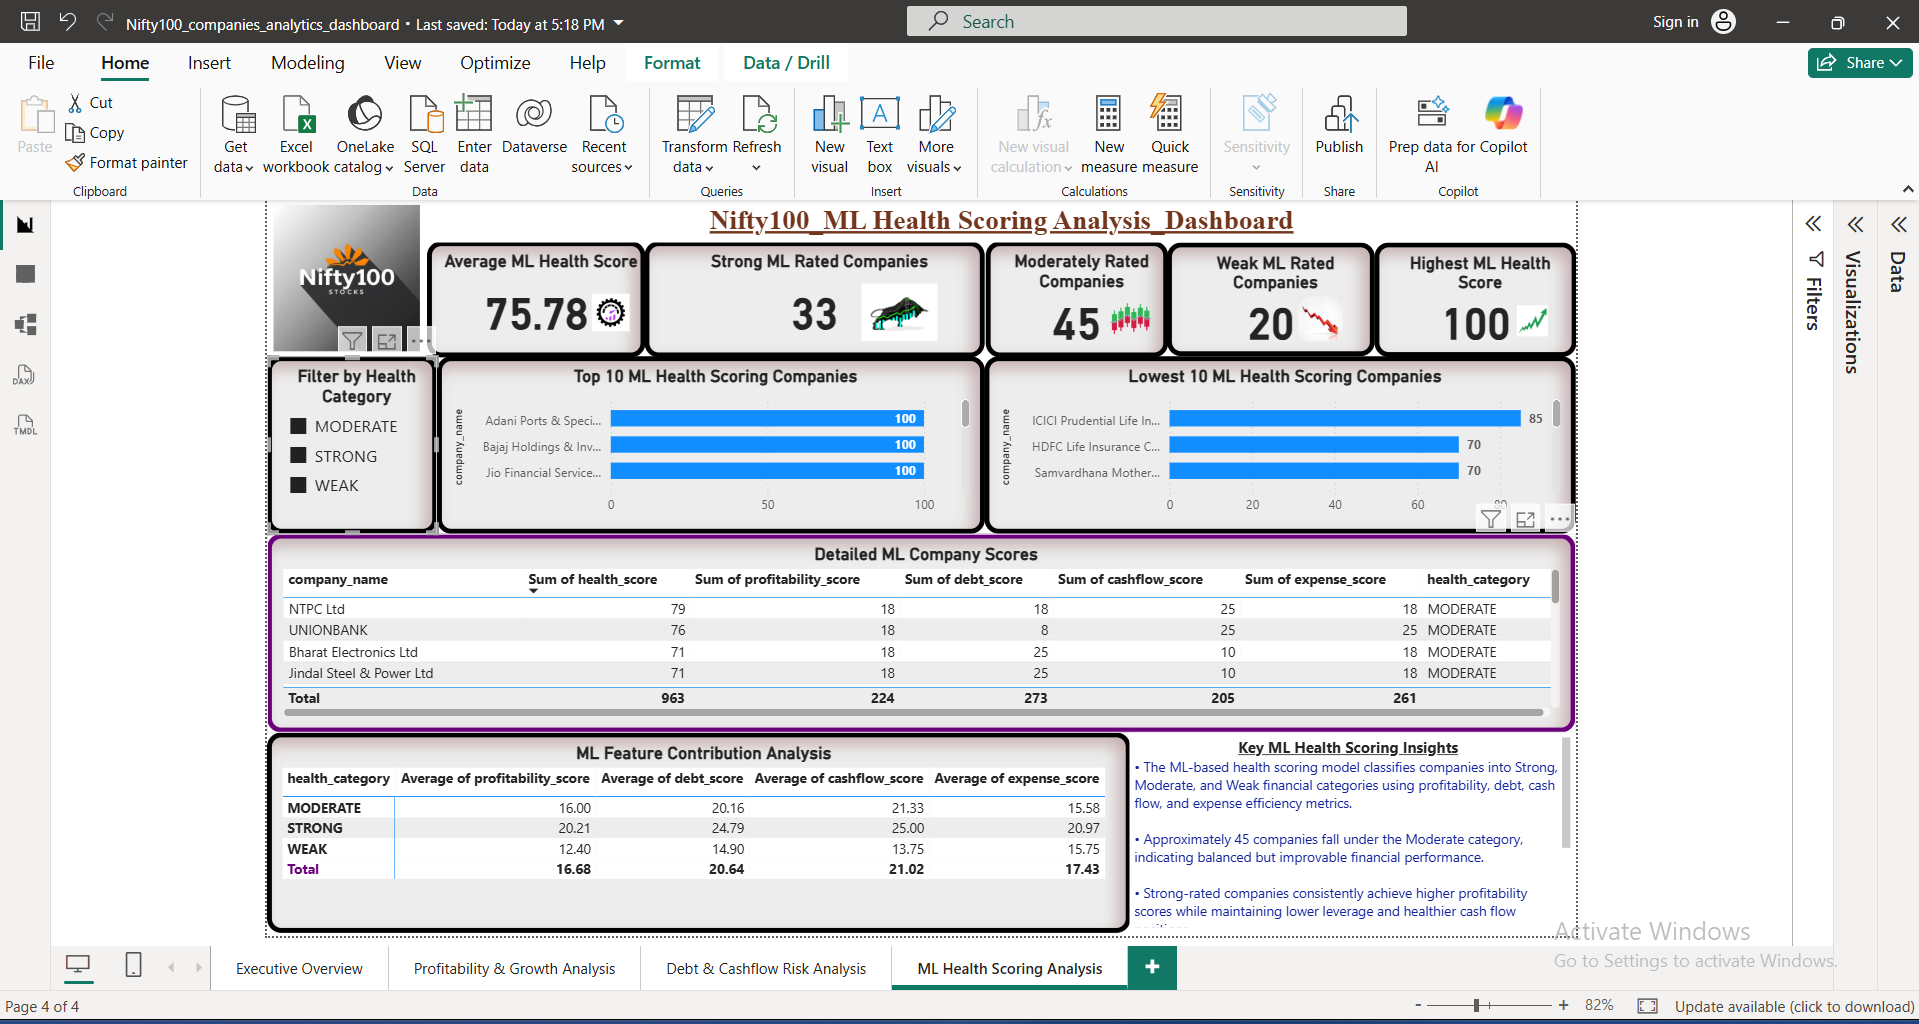

The page's visual inventory and layout, read from the dashboard file:
{"tool":"powerbi","page":{"name":"ML Health Scoring Analysis","canvas":[1280,720],"ordinal":3},"visuals":[{"type":"card","title":"Average ML Health Score","fields":{"Values":["Avg(company_health_scores.health_score)"]},"box":[156.2,39.8,213.6,113.4],"z":0},{"type":"card","title":"Moderately Rated Companies","fields":{"Values":["CountNonNull(company_health_scores.health_category)"]},"box":[702.8,39.8,178.3,113.4],"z":1000},{"type":"card","title":"Weak ML Rated Companies","fields":{"Values":["CountNonNull(company_health_scores.health_category)"]},"box":[881,38.3,201.8,114.9],"z":2000},{"type":"card","title":"Highest ML Health Score","fields":{"Values":["Max(company_health_scores.health_score)"]},"box":[1082.9,41.3,197.4,112],"z":3000},{"type":"card","title":"Strong ML Rated Companies","fields":{"Values":["Count(company_health_scores.company_name)"]},"box":[369.8,39.8,333,113.4],"z":4000},{"type":"slicer","title":"Filter by Health Category","fields":{"Values":["company_health_scores.health_category"]},"box":[0,153.1,166.7,188.9],"z":5000},{"type":"image","box":[0,0,156.2,153.2],"z":6000},{"type":"textbox","box":[156.2,0,1124.1,41.3],"z":7000},{"type":"clusteredBarChart","title":"Top 10 ML Health Scoring Companies","fields":{"Category":["company_health_scores.company_name"],"Y":["Sum(company_health_scores.health_score)"]},"box":[166.7,153.1,535.8,188.9],"z":8000},{"type":"clusteredColumnChart","title":"Company Distribution by Health Category","fields":{"Category":["company_health_scores.health_category"],"Y":["Count(company_health_scores.company_name)"]},"box":[844.4,537,435.8,179],"z":9000},{"type":"clusteredBarChart","title":"Lowest 10 ML Health Scoring Companies","fields":{"Category":["company_health_scores.company_name"],"Y":["Sum(company_health_scores.health_score)"]},"box":[702.5,153.1,577.8,188.9],"z":10000},{"type":"pivotTable","title":"ML Feature Contribution Analysis","fields":{"Rows":["company_health_scores.health_category"],"Values":["Avg(company_health_scores.profitability_score)","Avg(company_health_scores.debt_score)","Avg(company_health_scores.cashflow_score)","Avg(company_health_scores.expense_score)"]},"box":[0,537,844.4,179],"z":11000},{"type":"tableEx","title":"Detailed ML Company Scores","fields":{"Values":["company_health_scores.company_name","Sum(company_health_scores.health_score)","Sum(company_health_scores.profitability_score)","Sum(company_health_scores.debt_score)","Sum(company_health_scores.cashflow_score)","Sum(company_health_scores.expense_score)","company_health_scores.health_category"]},"box":[0,342,1280.3,195.1],"z":12000}]}

Visuals, with their boxes on the page's 1280x720 design canvas (x1, y1, x2, y2). These are canvas units, not pixel positions in the 1919x1024 screenshot, which may show the page scaled, cropped or inside an application window:
"Average ML Health Score" card: <region>156, 40, 370, 153</region>
"Moderately Rated Companies" card: <region>703, 40, 881, 153</region>
"Weak ML Rated Companies" card: <region>881, 38, 1083, 153</region>
"Highest ML Health Score" card: <region>1083, 41, 1280, 153</region>
"Strong ML Rated Companies" card: <region>370, 40, 703, 153</region>
"Filter by Health Category" slicer: <region>0, 153, 167, 342</region>
image: <region>0, 0, 156, 153</region>
textbox: <region>156, 0, 1280, 41</region>
"Top 10 ML Health Scoring Companies" clusteredBarChart: <region>167, 153, 702, 342</region>
"Company Distribution by Health Category" clusteredColumnChart: <region>844, 537, 1280, 716</region>
"Lowest 10 ML Health Scoring Companies" clusteredBarChart: <region>702, 153, 1280, 342</region>
"ML Feature Contribution Analysis" pivotTable: <region>0, 537, 844, 716</region>
"Detailed ML Company Scores" tableEx: <region>0, 342, 1280, 537</region>
